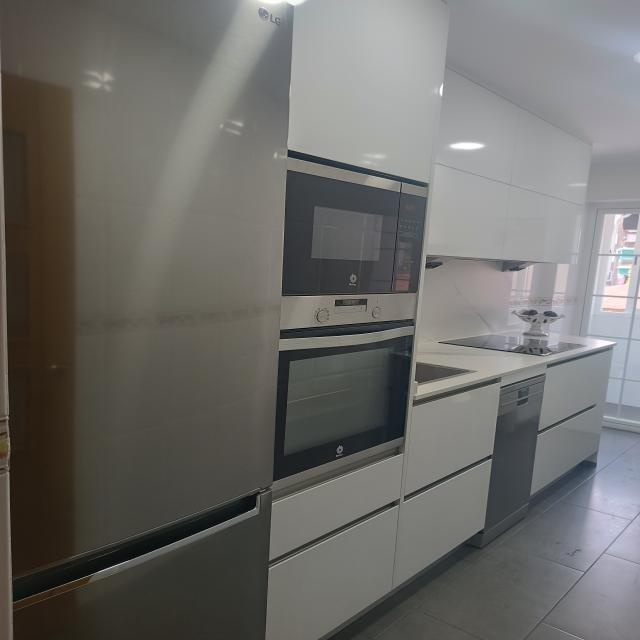cabinet: (426, 67, 593, 264), (287, 0, 449, 184), (265, 455, 404, 640), (394, 377, 501, 582), (530, 346, 614, 497)
countertop: (413, 334, 617, 407)
fridge: (0, 0, 334, 640)
microwave: (282, 150, 428, 297)
oven: (273, 293, 417, 481)
shower: (415, 363, 469, 383)
sofa: (438, 335, 587, 356)
